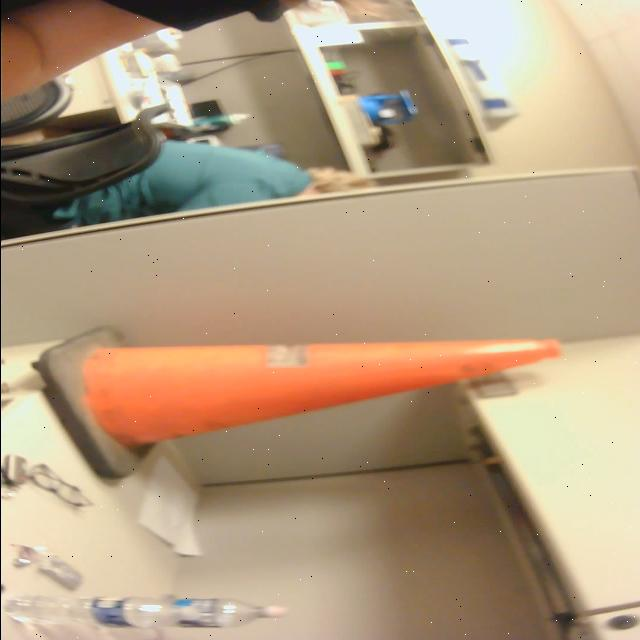traffic cone: (23, 321, 575, 482)
